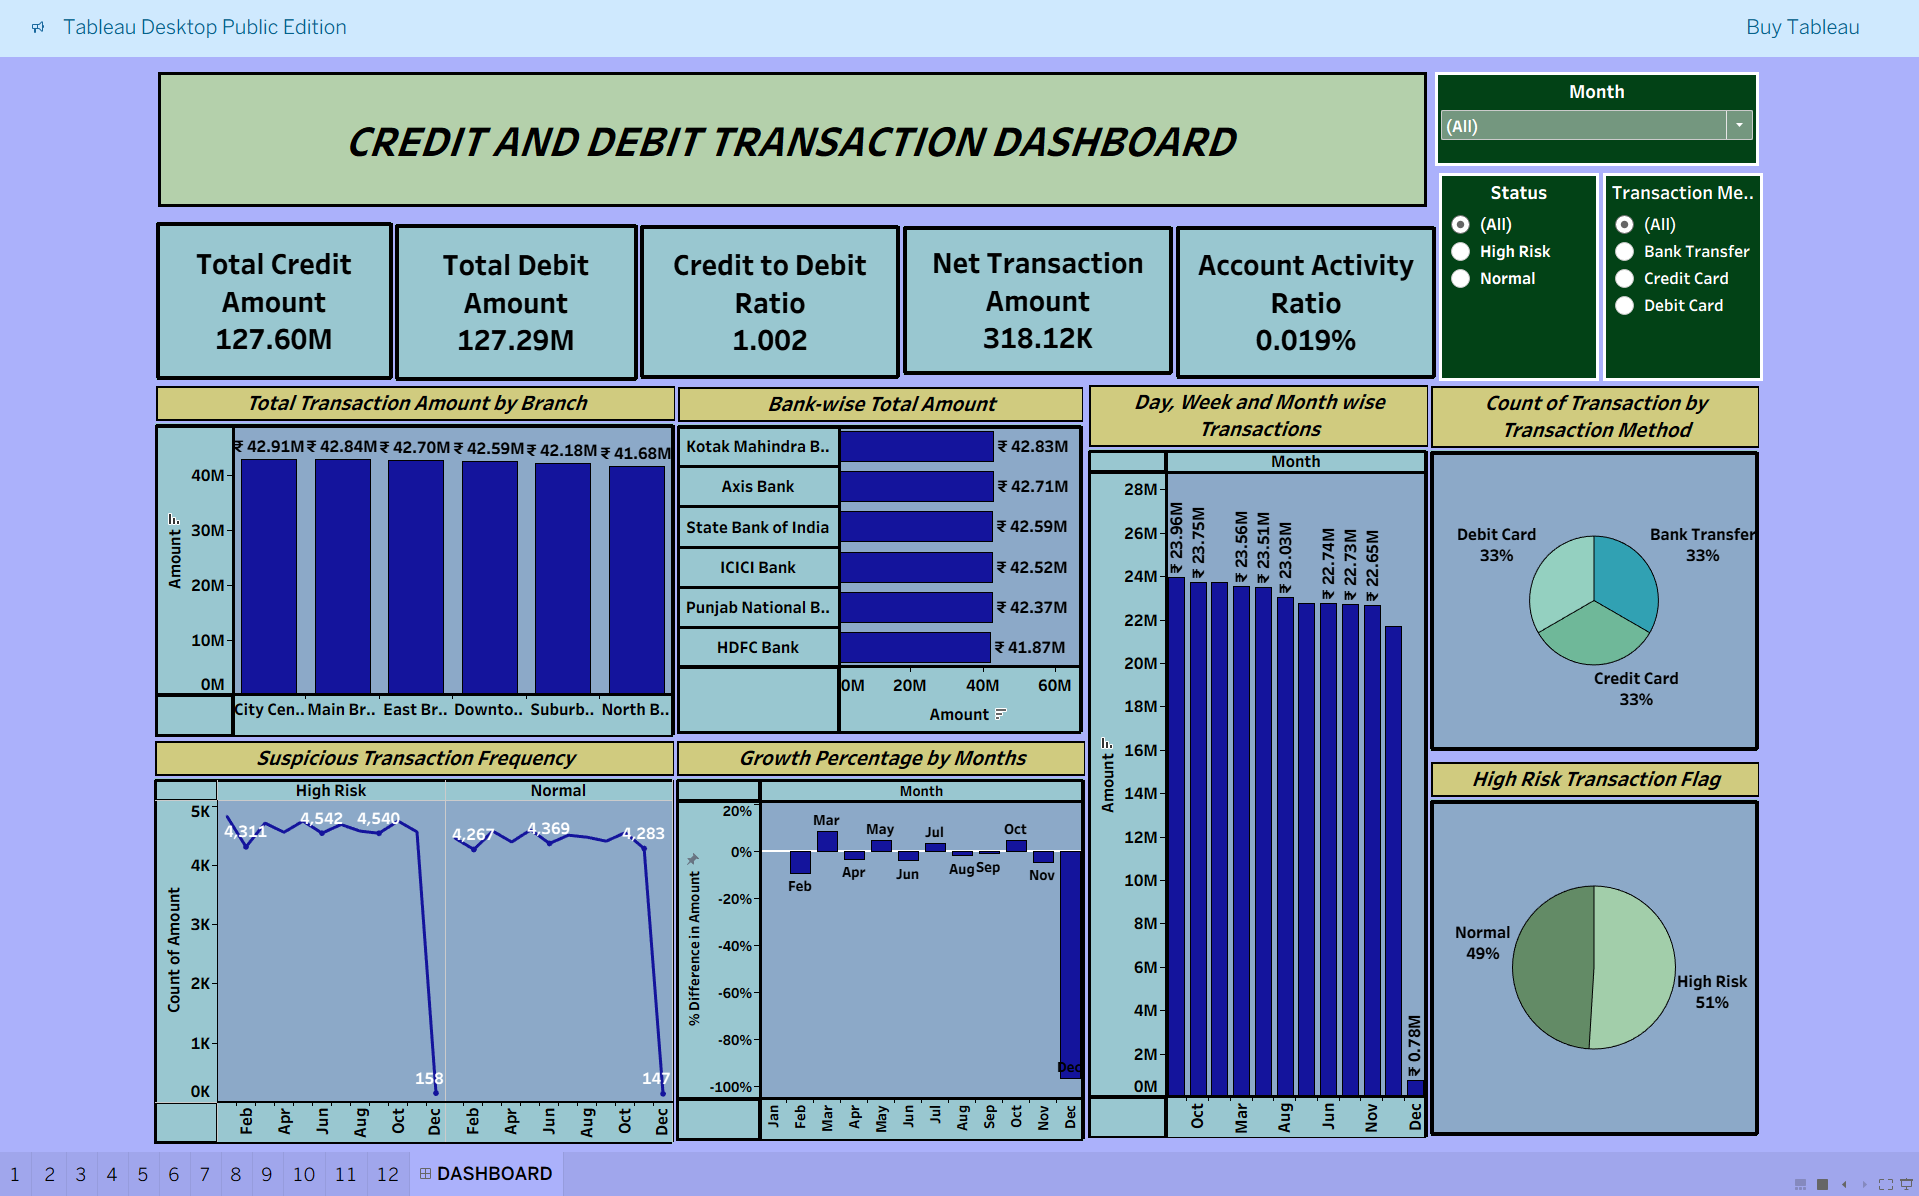

The page's visual inventory and layout, read from the dashboard file:
{"tool":"powerbi","page":{"name":"Dashboard","canvas":[1450,750],"ordinal":0},"visuals":[{"type":"cardVisual","fields":{"Data":["Cleaned Data.Total Credit Amount"]},"box":[0,54.9,303.6,162],"z":0},{"type":"shape","box":[862,64.8,285.2,119],"z":0,"group":"g1"},{"type":"cardVisual","fields":{"Data":["Measures Table.Credit to Debit Ratio"]},"box":[849.8,54.3,308,94.8],"z":1000,"group":"g1"},{"type":"clusteredBarChart","title":"Total Transaction Amount by Branch","fields":{"Category":["Cleaned Data.Branch"],"Y":["Measures Table.Total Amount"]},"box":[701.6,216.1,365.4,253.9],"z":1000},{"type":"shape","box":[11.6,9,1417.2,54.1],"z":2000},{"type":"clusteredColumnChart","title":"Transaction Volume by Bank","fields":{"Category":["Debit & Credit Data.Bank Name"],"Y":["Sum(Debit & Credit Data.Amount)"]},"box":[763.3,480.3,373.9,255.6],"z":3000},{"type":"donutChart","title":"Transaction Method Distribution","fields":{"Category":["Debit & Credit Data.Transaction Method"],"Y":["Count(Debit & Credit Data.Account Number)"]},"box":[413.4,478.6,339.6,259],"z":4000},{"type":"pieChart","title":"High-Risk Transaction Flag","fields":{"Category":["Debit & Credit Data.High Risk"],"Y":["Count(Debit & Credit Data.Amount)"]},"box":[1148,479.3,281.3,258.3],"z":5000},{"type":"cardVisual","fields":{"Data":["Measures Table.Debit Amount"]},"box":[279.4,54.1,304.2,162],"z":6000},{"type":"cardVisual","fields":{"Data":["Measures Table.Account Activity Ratio"]},"box":[565.3,54.3,303.2,162],"z":7000},{"type":"group","id":"g1","title":"Group 2","box":[849.8,54.3,308,129.5],"z":7000,"group":"g3"},{"type":"cardVisual","fields":{"Data":["Measures Table.Net Transaction Amount"]},"box":[1132.1,56.6,310.2,106.8],"z":7000,"group":"g4"},{"type":"group","id":"g2","title":"Group 3","box":[1132.1,56.6,310.5,142.4],"z":8000},{"type":"group","id":"g3","title":"Group 4","box":[849.8,54.3,308,145],"z":9000},{"type":"tableEx","fields":{"Values":["Measures Table.Deposits Arrow","Measures Table.Withdrawals"]},"box":[869,132.5,272.7,66.8],"z":9000,"group":"g3"},{"type":"textbox","box":[1150.8,144.2,273.1,54],"z":10000,"group":"g2"},{"type":"lineChart","title":"Transactions per Qtr/Month/Day","fields":{"Y":["CountNonNull(Debit & Credit Data.Transaction Method)"],"Category":["DateTable.Date.Variation.Date Hierarchy.Quarter","DateTable.Date.Variation.Date Hierarchy.Month","DateTable.Date.Variation.Date Hierarchy.Day"]},"box":[1080.5,216.7,348.7,254],"z":10000},{"type":"lineChart","title":"Suspicious Transaction Frequency","fields":{"Series":["Debit & Credit Data.High Risk"],"Y":["CountNonNull(Debit & Credit Data.Transaction Method)"],"Category":["DateTable.Date.Variation.Date Hierarchy.Month","DateTable.Date.Variation.Date Hierarchy.Day"]},"box":[269.3,214.4,420.3,255.6],"z":11000},{"type":"slicer","fields":{"Values":["DateTable.Date.Variation.Date Hierarchy.Month"]},"box":[12,305.3,245.3,70.3],"z":12000},{"type":"slicer","fields":{"Values":["Debit & Credit Data.Bank Name"]},"box":[11.7,216.5,245.7,77.5],"z":13000},{"type":"group","id":"g4","title":"Group 1","box":[1132.1,56.6,310.2,106.2],"z":13002,"group":"g2"},{"type":"clusteredColumnChart","title":"Branch Transaction Growth","fields":{"Category":["DateTable.Date.Variation.Date Hierarchy.Month"],"Y":["Measures Table.MoM Growth %"]},"box":[12,478.6,385.9,259],"z":14000},{"type":"slicer","fields":{"Values":["Debit & Credit Data.Branch"]},"box":[12,389.4,245.3,80.6],"z":15000}]}

Visuals, with their boxes on the page's 1450x750 design canvas (x1, y1, x2, y2). These are canvas units, not pixel positions in the 1919x1196 screenshot, which may show the page scaled, cropped or inside an application window:
cardVisual - Cleaned Data.Total Credit Amount: select_region(0, 55, 304, 217)
shape: select_region(862, 65, 1147, 184)
cardVisual - Measures Table.Credit to Debit Ratio: select_region(850, 54, 1158, 149)
"Total Transaction Amount by Branch" clusteredBarChart: select_region(702, 216, 1067, 470)
shape: select_region(12, 9, 1429, 63)
"Transaction Volume by Bank" clusteredColumnChart: select_region(763, 480, 1137, 736)
"Transaction Method Distribution" donutChart: select_region(413, 479, 753, 738)
"High-Risk Transaction Flag" pieChart: select_region(1148, 479, 1429, 738)
cardVisual - Measures Table.Debit Amount: select_region(279, 54, 584, 216)
cardVisual - Measures Table.Account Activity Ratio: select_region(565, 54, 868, 216)
"Group 2" group: select_region(850, 54, 1158, 184)
cardVisual - Measures Table.Net Transaction Amount: select_region(1132, 57, 1442, 163)
"Group 3" group: select_region(1132, 57, 1443, 199)
"Group 4" group: select_region(850, 54, 1158, 199)
tableEx - Measures Table.Deposits Arrow x Measures Table.Withdrawals: select_region(869, 132, 1142, 199)
textbox: select_region(1151, 144, 1424, 198)
"Transactions per Qtr/Month/Day" lineChart: select_region(1080, 217, 1429, 471)
"Suspicious Transaction Frequency" lineChart: select_region(269, 214, 690, 470)
slicer - DateTable.Date.Variation.Date Hierarchy.Month: select_region(12, 305, 257, 376)
slicer - Debit & Credit Data.Bank Name: select_region(12, 216, 257, 294)
"Group 1" group: select_region(1132, 57, 1442, 163)
"Branch Transaction Growth" clusteredColumnChart: select_region(12, 479, 398, 738)
slicer - Debit & Credit Data.Branch: select_region(12, 389, 257, 470)
